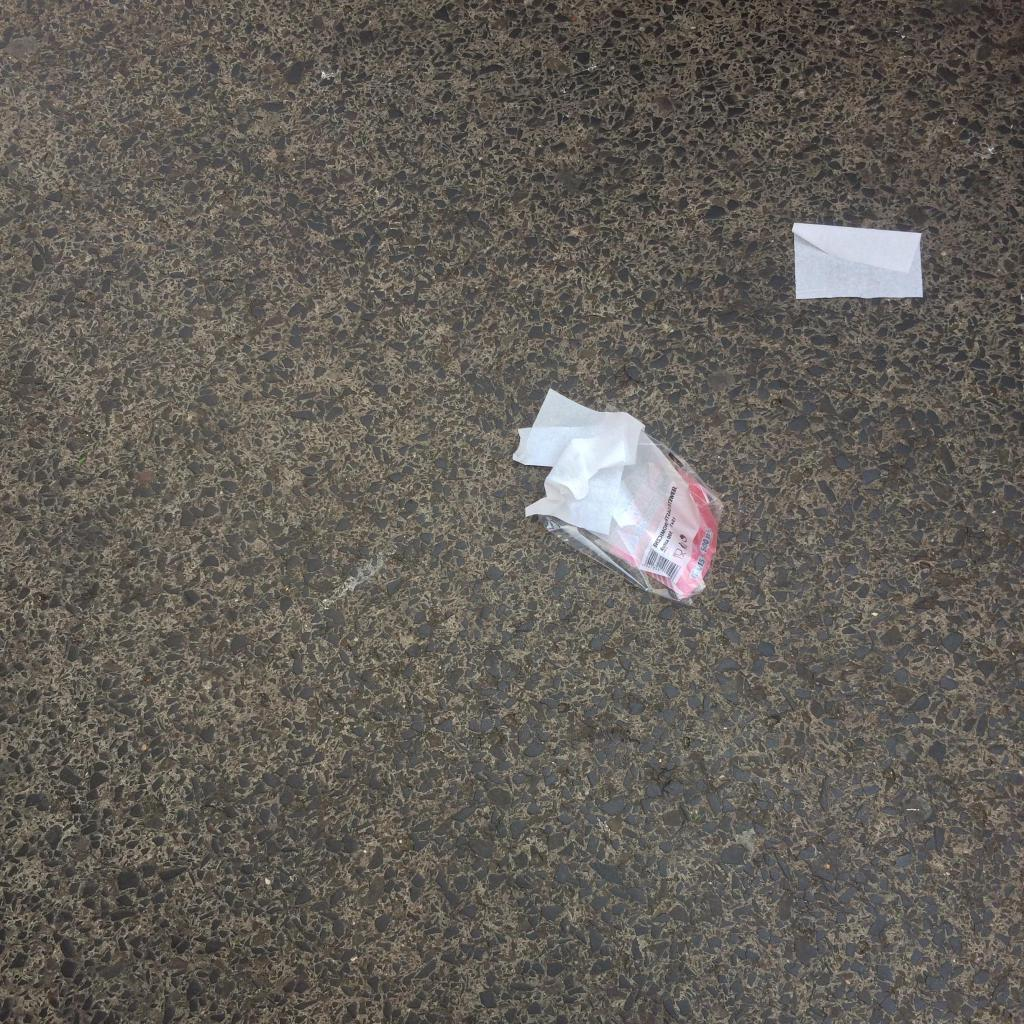Plastic film: (538, 429, 724, 606)
Tissues: (512, 388, 646, 518), (792, 222, 924, 300)
